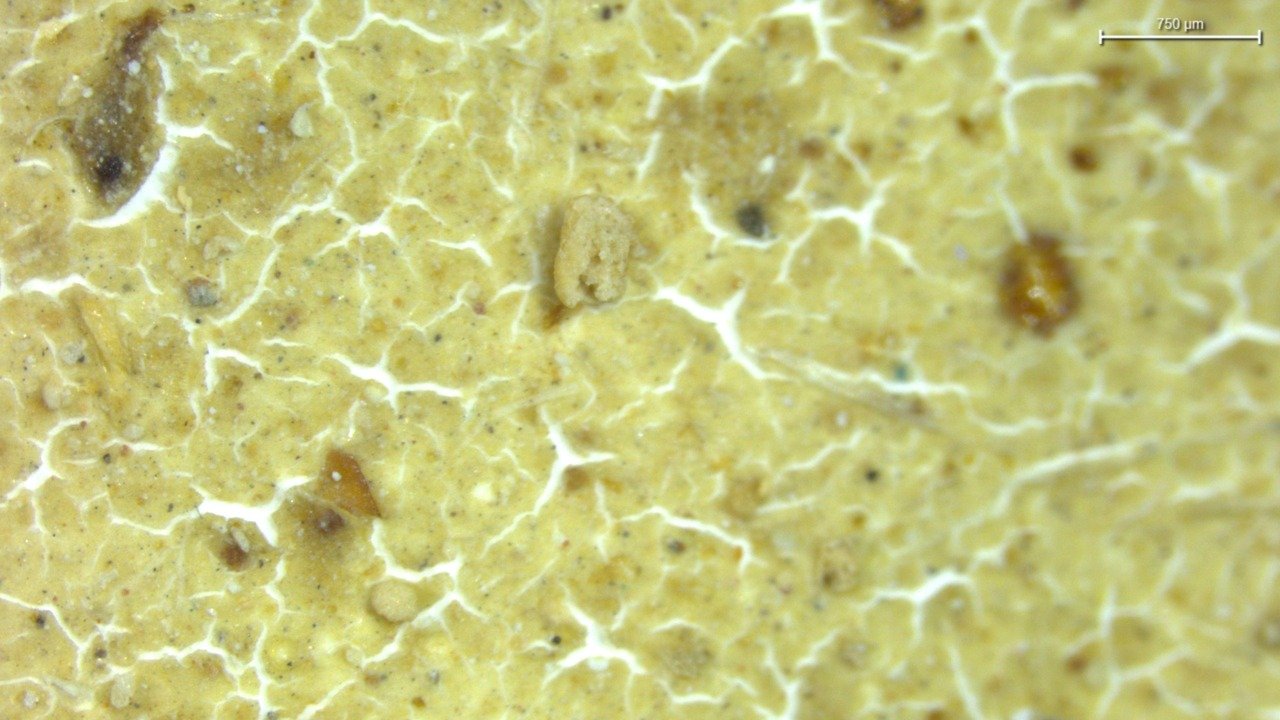microplastic_fragment: (562, 188, 638, 311), (369, 578, 425, 625)
